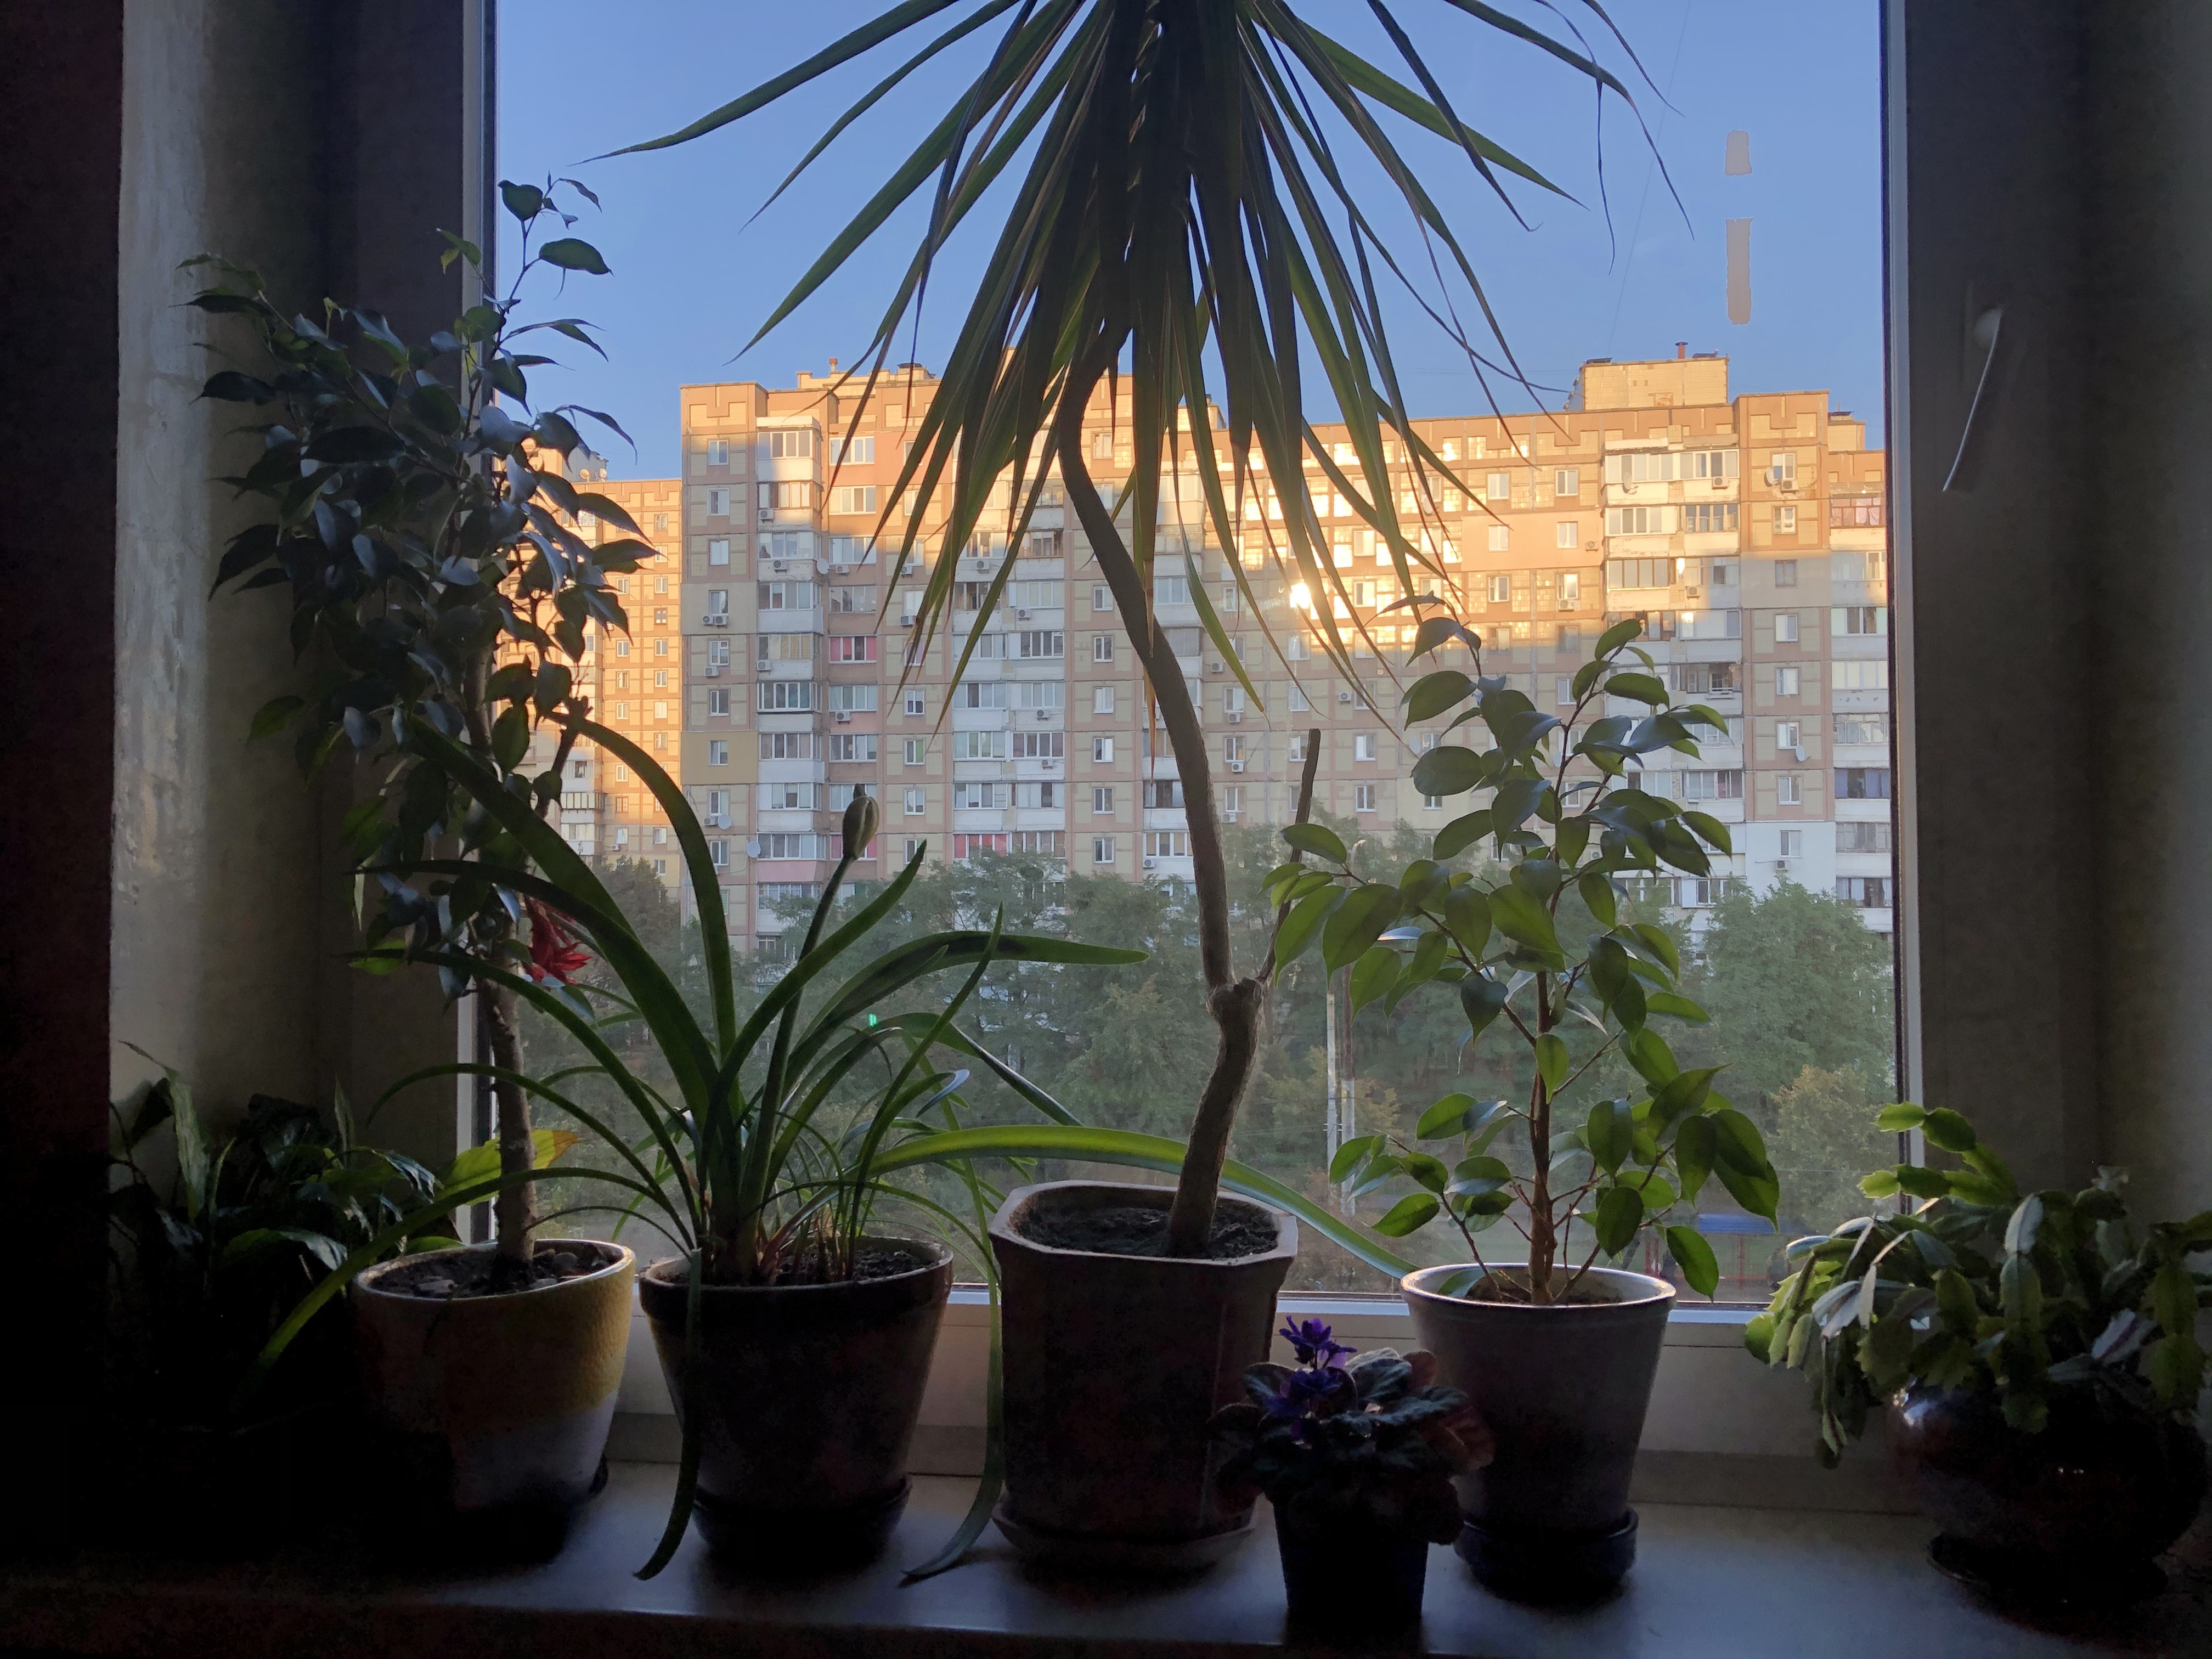ignore: (1205, 1305, 1493, 1628)
